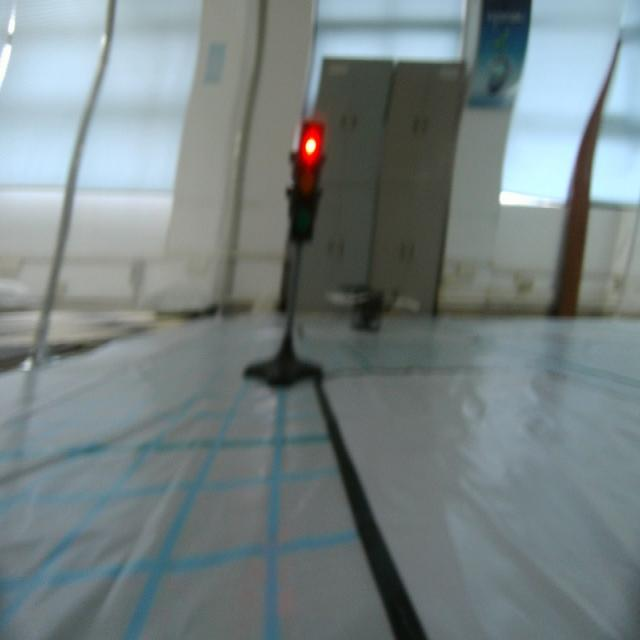red: (284, 120, 328, 255)
